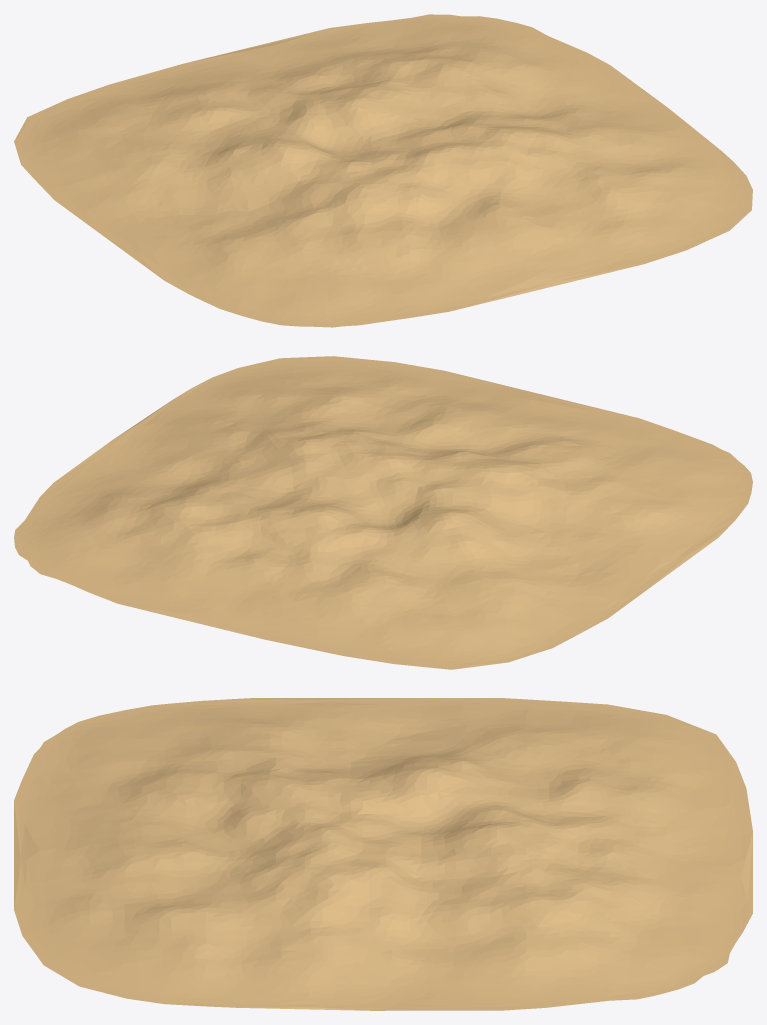
File: MT_Island_H_c_06.fbx
3 renders of one model, top to bottom at view 1: azimuth 30°, elevation 25°; view 2: azimuth 150°, elevation 25°; view 3: azimuth 270°, elevation 25°, orthographic. The views are drawn at different scales.
Visible parts, largest first — view 1: MT_Island_H_c_06; view 2: MT_Island_H_c_06; view 3: MT_Island_H_c_06.
Part boxes in pixels (left/top/right/bottom): MT_Island_H_c_06: left=14, top=14, right=752, bottom=327; MT_Island_H_c_06: left=14, top=356, right=752, bottom=669; MT_Island_H_c_06: left=14, top=698, right=752, bottom=1010.
Size of the model in its own units: 50000 by 2745 by 50000.
